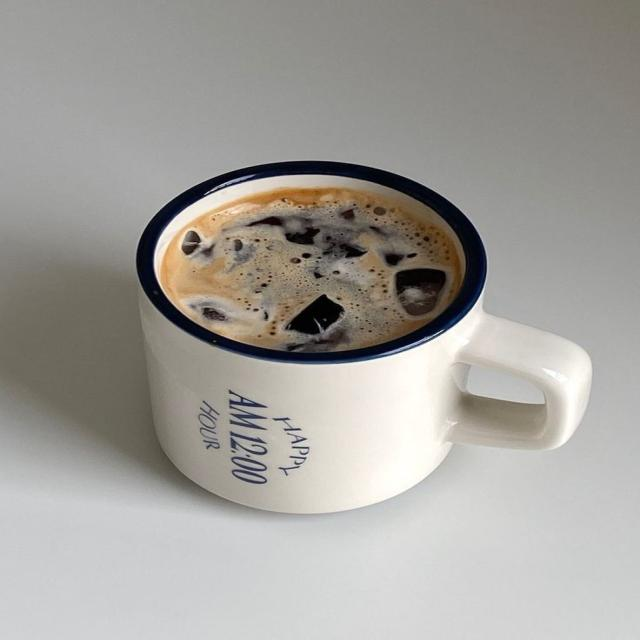glass cup: (136, 160, 594, 514)
